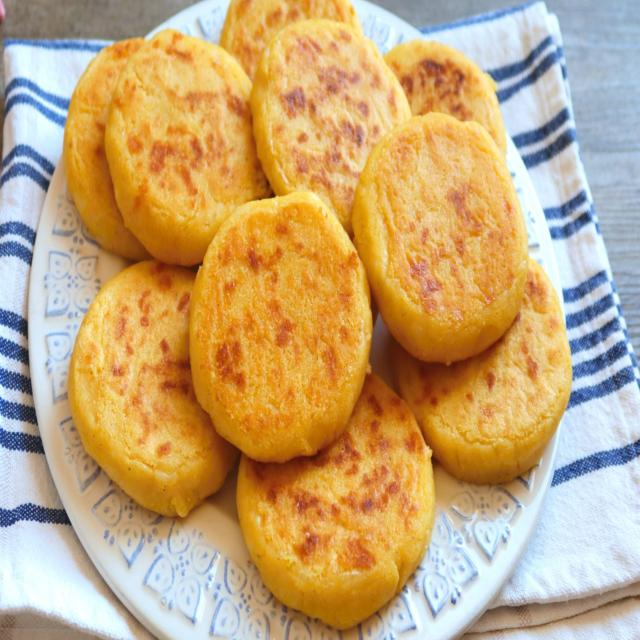arepa: (184, 184, 376, 470)
